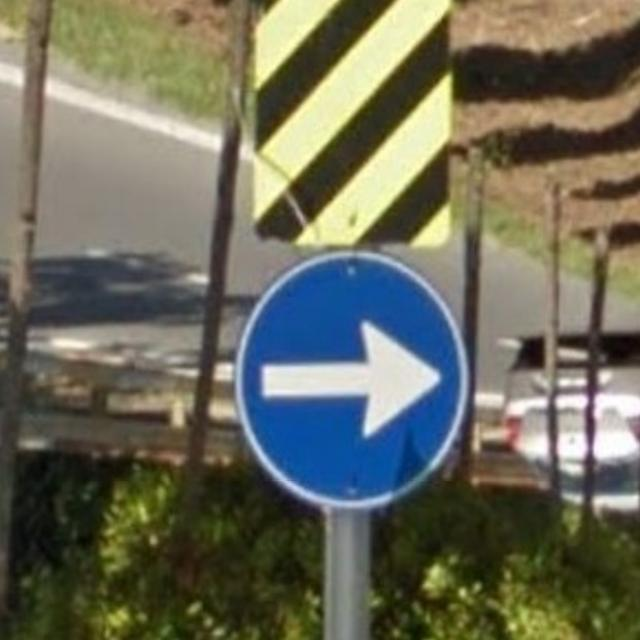Turn Right: (235, 246, 476, 511)
